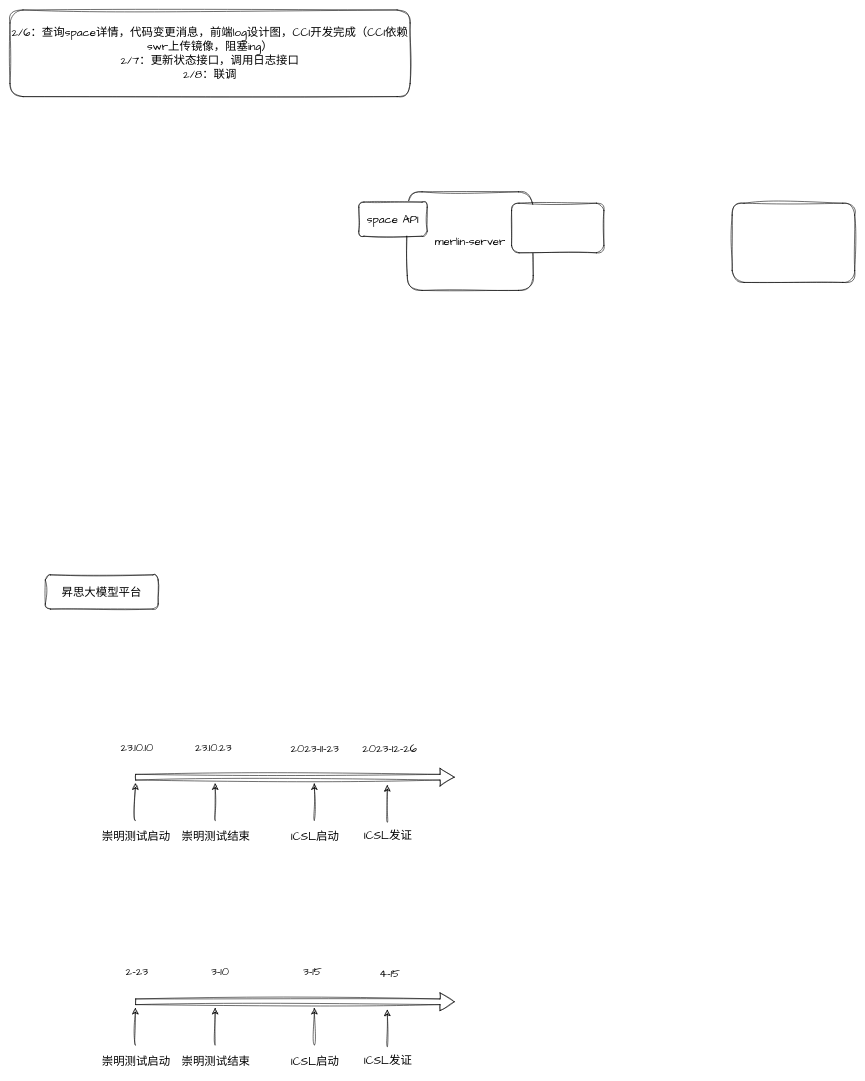
Some shapes in this 865 by 1081 pixel diagram are drawn without their labels. Each missing label, with the centre of its shape:
internal:: point 557,228
space-server: point 793,242
